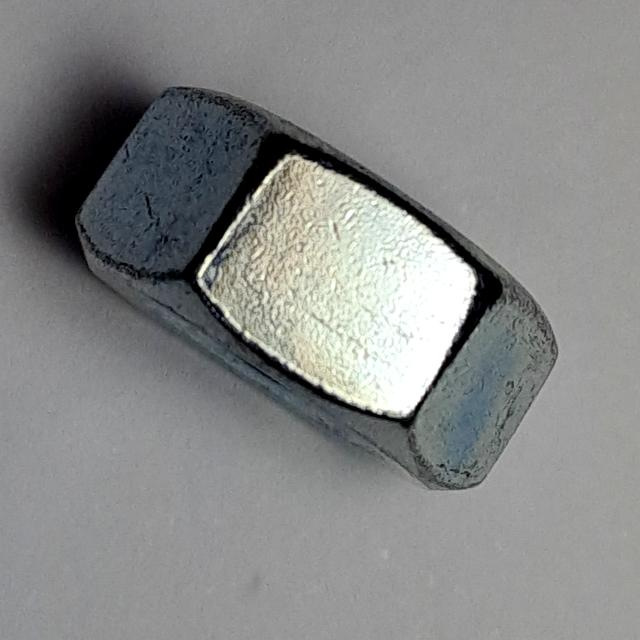Side_Excellent: (62, 77, 577, 503)
